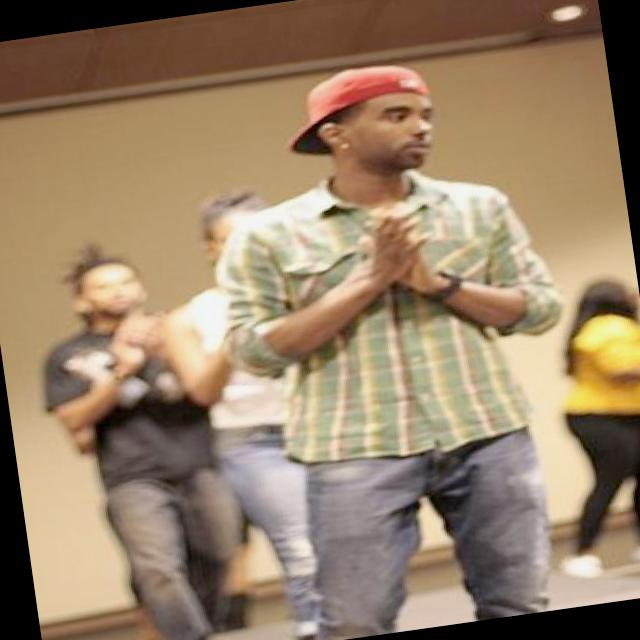no_vest: (227, 140, 548, 479), (42, 299, 233, 500), (558, 303, 640, 428)
